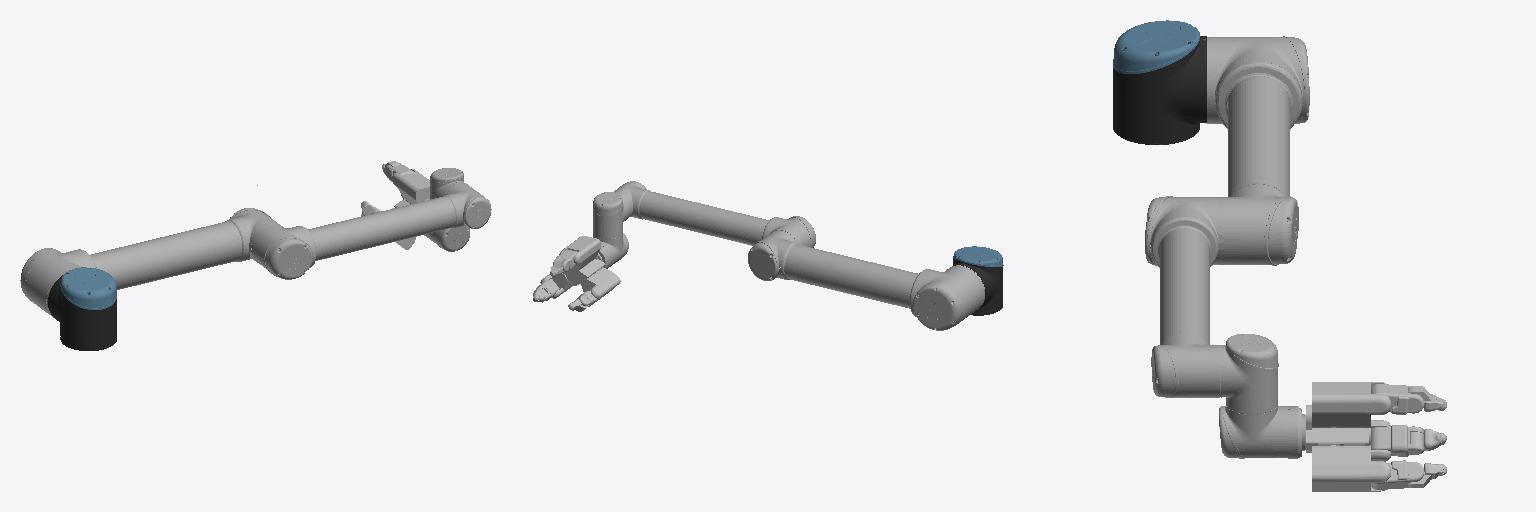
--- What the picture shows (computed from the rendered views, not written in the file) ---
Views: 3 orthographic renders of the robot side by side, from view 1: azimuth 30°, elevation 25°; view 2: azimuth 150°, elevation 25°; view 3: azimuth 270°, elevation 25°.
Model smart_grasping_sandbox with 35 links and 34 joints (15 revolute, 19 fixed), rooted at world, posed every joint at zero.
Links seen in each view (by area): view 1: upper_arm_link, forearm_link, shoulder_link, H1_F2_base_link, wrist_2_link, wrist_1_link; view 2: upper_arm_link, forearm_link, shoulder_link, wrist_1_link, H1_F2_base_link, H1_F3_base_link; view 3: upper_arm_link, forearm_link, shoulder_link, wrist_1_link, wrist_2_link, H1_F2_base_link, H1_F1_base_link, H1_F3_link_1, H1_base_link, H1_F2_link_1, H1_F1_link_1, wrist_3_link.
Link boxes in pixels (box(x1,y1,x2,y2)): upper_arm_link: box(20, 185, 279, 317); forearm_link: box(249, 182, 491, 279); shoulder_link: box(48, 267, 116, 350); H1_F2_base_link: box(392, 169, 429, 203); wrist_2_link: box(425, 226, 469, 251); wrist_1_link: box(430, 168, 463, 199); upper_arm_link: box(748, 231, 984, 330); forearm_link: box(614, 181, 815, 247); shoulder_link: box(953, 246, 1003, 315); wrist_1_link: box(593, 192, 629, 239); H1_F2_base_link: box(559, 236, 600, 271); H1_F3_base_link: box(581, 267, 620, 306); upper_arm_link: box(1207, 36, 1309, 265); forearm_link: box(1145, 196, 1223, 397); shoulder_link: box(1113, 20, 1206, 144); wrist_1_link: box(1221, 334, 1278, 414); wrist_2_link: box(1219, 406, 1287, 458); H1_F2_base_link: box(1312, 382, 1390, 427); H1_F1_base_link: box(1312, 445, 1390, 491); H1_F3_link_1: box(1371, 425, 1423, 456); H1_base_link: box(1306, 405, 1368, 452); H1_F2_link_1: box(1371, 384, 1423, 414); H1_F1_link_1: box(1371, 460, 1423, 489); wrist_3_link: box(1288, 406, 1305, 458).
Size in the robot's own frame: 1.36 by 0.5747 by 0.3017 metres.
22 mesh visuals loaded from 13 distinct referenced files (6 binary STL, 6 Collada DAE); not drawn: 1 (reference not matched to a file when rendering).

URDF robot description (smart_grasping_sandbox):
<?xml version="1.0" ?>
<!-- =================================================================================== -->
<!-- |    This document was autogenerated by xacro from /smart_grasping_sandbox/src/smart_grasping_sandbox/fh_desc/robots/right_H1_ur5.urdf | -->
<!-- |    EDITING THIS FILE BY HAND IS NOT RECOMMENDED                                 | -->
<!-- =================================================================================== -->
<robot name="smart_grasping_sandbox" xmlns:xacro="http://ros.org/wiki/xacro">
  <!--
  Author: Kelsey Hawkins
  Contributers: Jimmy Da Silva, Ajit Krisshna N L, Muhammad Asif Rana
-->
  <!-- Inertia parameters -->
  <!-- This mass might be incorrect -->
  <!-- These parameters are borrowed from the urcontrol.conf file
       but are not verified for the correct permutation.
       The permutation was guessed by looking at the UR5 parameters.
       Serious use of these parameters needs further inspection. -->
  <!-- Kinematic model -->
  <!-- Properties from urcontrol.conf -->
  <!-- Arbitrary offsets for shoulder/elbow joints -->
  <!-- measured from model -->
  <!-- measured from model -->
  <!-- link lengths used in model -->
  <link name="world"/>
  <joint name="world_joint" type="fixed">
    <parent link="world"/>
    <child link="base_link"/>
    <origin rpy="0.0 0.0 0.0" xyz="0.0 -1.0 1.0"/>
  </joint>
  <link name="base_link">
    <visual>
      <geometry>
        <mesh filename="package://ur_description/meshes/ur10/visual/base.dae"/>
      </geometry>
    </visual>
    <collision>
      <geometry>
        <mesh filename="package://ur_description/meshes/ur10/collision/base.stl"/>
      </geometry>
    </collision>
    <inertial>
      <mass value="4.0"/>
      <origin rpy="0 0 0" xyz="0.0 0.0 0.0"/>
      <inertia ixx="0.0061063308908" ixy="0.0" ixz="0.0" iyy="0.0061063308908" iyz="0.0" izz="0.01125"/>
    </inertial>
  </link>
  <joint name="shoulder_pan_joint" type="revolute">
    <parent link="base_link"/>
    <child link="shoulder_link"/>
    <origin rpy="0.0 0.0 0.0" xyz="0.0 0.0 0.1273"/>
    <axis xyz="0 0 1"/>
    <limit effort="330.0" lower="-3.14159265359" upper="3.14159265359" velocity="2.16"/>
    <dynamics damping="0.0" friction="0.0"/>
  </joint>
  <link name="shoulder_link">
    <visual>
      <geometry>
        <mesh filename="package://ur_description/meshes/ur10/visual/shoulder.dae"/>
      </geometry>
    </visual>
    <collision>
      <geometry>
        <mesh filename="package://ur_description/meshes/ur10/collision/shoulder.stl"/>
      </geometry>
    </collision>
    <inertial>
      <mass value="7.778"/>
      <origin rpy="0 0 0" xyz="0.0 0.0 0.0"/>
      <inertia ixx="0.0314743125769" ixy="0.0" ixz="0.0" iyy="0.0314743125769" iyz="0.0" izz="0.021875625"/>
    </inertial>
  </link>
  <joint name="shoulder_lift_joint" type="revolute">
    <parent link="shoulder_link"/>
    <child link="upper_arm_link"/>
    <origin rpy="0.0 1.57079632679 0.0" xyz="0.0 0.220941 0.0"/>
    <axis xyz="0 1 0"/>
    <limit effort="330.0" lower="-3.14159265359" upper="3.14159265359" velocity="2.16"/>
    <dynamics damping="0.0" friction="0.0"/>
  </joint>
  <link name="upper_arm_link">
    <visual>
      <geometry>
        <mesh filename="package://ur_description/meshes/ur10/visual/upperarm.dae"/>
      </geometry>
      <material name="LightGrey">
        <color rgba="0.7 0.7 0.7 1.0"/>
      </material>
    </visual>
    <collision>
      <geometry>
        <mesh filename="package://ur_description/meshes/ur10/collision/upperarm.stl"/>
      </geometry>
    </collision>
    <inertial>
      <mass value="12.93"/>
      <origin rpy="0 0 0" xyz="0.0 0.0 0.306"/>
      <inertia ixx="0.421753803798" ixy="0.0" ixz="0.0" iyy="0.421753803798" iyz="0.0" izz="0.036365625"/>
    </inertial>
  </link>
  <joint name="elbow_joint" type="revolute">
    <parent link="upper_arm_link"/>
    <child link="forearm_link"/>
    <origin rpy="0.0 0.0 0.0" xyz="0.0 -0.1719 0.612"/>
    <axis xyz="0 1 0"/>
    <limit effort="150.0" lower="-3.14159265359" upper="3.14159265359" velocity="3.15"/>
    <dynamics damping="0.0" friction="0.0"/>
  </joint>
  <link name="forearm_link">
    <visual>
      <geometry>
        <mesh filename="package://ur_description/meshes/ur10/visual/forearm.dae"/>
      </geometry>
      <material name="LightGrey">
        <color rgba="0.7 0.7 0.7 1.0"/>
      </material>
    </visual>
    <collision>
      <geometry>
        <mesh filename="package://ur_description/meshes/ur10/collision/forearm.stl"/>
      </geometry>
    </collision>
    <inertial>
      <mass value="3.87"/>
      <origin rpy="0 0 0" xyz="0.0 0.0 0.28615"/>
      <inertia ixx="0.111069694097" ixy="0.0" ixz="0.0" iyy="0.111069694097" iyz="0.0" izz="0.010884375"/>
    </inertial>
  </link>
  <joint name="wrist_1_joint" type="revolute">
    <parent link="forearm_link"/>
    <child link="wrist_1_link"/>
    <origin rpy="0.0 1.57079632679 0.0" xyz="0.0 0.0 0.5723"/>
    <axis xyz="0 1 0"/>
    <limit effort="54.0" lower="-3.14159265359" upper="3.14159265359" velocity="3.2"/>
    <dynamics damping="0.0" friction="0.0"/>
  </joint>
  <link name="wrist_1_link">
    <visual>
      <geometry>
        <mesh filename="package://ur_description/meshes/ur10/visual/wrist1.dae"/>
      </geometry>
      <material name="LightGrey">
        <color rgba="0.7 0.7 0.7 1.0"/>
      </material>
    </visual>
    <collision>
      <geometry>
        <mesh filename="package://ur_description/meshes/ur10/collision/wrist1.stl"/>
      </geometry>
    </collision>
    <inertial>
      <mass value="1.96"/>
      <origin rpy="0 0 0" xyz="0.0 0.0 0.0"/>
      <inertia ixx="0.0051082479567" ixy="0.0" ixz="0.0" iyy="0.0051082479567" iyz="0.0" izz="0.0055125"/>
    </inertial>
  </link>
  <joint name="wrist_2_joint" type="revolute">
    <parent link="wrist_1_link"/>
    <child link="wrist_2_link"/>
    <origin rpy="0.0 0.0 0.0" xyz="0.0 0.1149 0.0"/>
    <axis xyz="0 0 1"/>
    <limit effort="54.0" lower="-3.14159265359" upper="3.14159265359" velocity="3.2"/>
    <dynamics damping="0.0" friction="0.0"/>
  </joint>
  <link name="wrist_2_link">
    <visual>
      <geometry>
        <mesh filename="package://ur_description/meshes/ur10/visual/wrist2.dae"/>
      </geometry>
      <material name="LightGrey">
        <color rgba="0.7 0.7 0.7 1.0"/>
      </material>
    </visual>
    <collision>
      <geometry>
        <mesh filename="package://ur_description/meshes/ur10/collision/wrist2.stl"/>
      </geometry>
    </collision>
    <inertial>
      <mass value="1.96"/>
      <origin rpy="0 0 0" xyz="0.0 0.0 0.0"/>
      <inertia ixx="0.0051082479567" ixy="0.0" ixz="0.0" iyy="0.0051082479567" iyz="0.0" izz="0.0055125"/>
    </inertial>
  </link>
  <joint name="wrist_3_joint" type="revolute">
    <parent link="wrist_2_link"/>
    <child link="wrist_3_link"/>
    <origin rpy="0.0 0.0 0.0" xyz="0.0 0.0 0.1157"/>
    <axis xyz="0 1 0"/>
    <limit effort="54.0" lower="-3.14159265359" upper="3.14159265359" velocity="3.2"/>
    <dynamics damping="0.0" friction="0.0"/>
  </joint>
  <link name="wrist_3_link">
    <visual>
      <geometry>
        <mesh filename="package://ur_description/meshes/ur10/visual/wrist3.dae"/>
      </geometry>
      <material name="LightGrey">
        <color rgba="0.7 0.7 0.7 1.0"/>
      </material>
    </visual>
    <collision>
      <geometry>
        <mesh filename="package://ur_description/meshes/ur10/collision/wrist3.stl"/>
      </geometry>
    </collision>
    <inertial>
      <mass value="0.202"/>
      <origin rpy="0 0 0" xyz="0.0 0.0 0.0"/>
      <inertia ixx="0.000526462289415" ixy="0.0" ixz="0.0" iyy="0.000526462289415" iyz="0.0" izz="0.000568125"/>
    </inertial>
  </link>
  <joint name="ee_fixed_joint" type="fixed">
    <parent link="wrist_3_link"/>
    <child link="ee_link"/>
    <origin rpy="0.0 0.0 1.57079632679" xyz="0.0 0.0922 0.0"/>
  </joint>
  <link name="ee_link">
    <collision>
      <geometry>
        <box size="0.01 0.01 0.01"/>
      </geometry>
      <origin rpy="0 0 0" xyz="-0.01 0 0"/>
    </collision>
  </link>
  <transmission name="shoulder_pan_trans">
    <type>transmission_interface/SimpleTransmission</type>
    <joint name="shoulder_pan_joint">
      <hardwareInterface>PositionJointInterface</hardwareInterface>
    </joint>
    <actuator name="shoulder_pan_motor">
      <mechanicalReduction>1</mechanicalReduction>
    </actuator>
  </transmission>
  <transmission name="shoulder_lift_trans">
    <type>transmission_interface/SimpleTransmission</type>
    <joint name="shoulder_lift_joint">
      <hardwareInterface>PositionJointInterface</hardwareInterface>
    </joint>
    <actuator name="shoulder_lift_motor">
      <mechanicalReduction>1</mechanicalReduction>
    </actuator>
  </transmission>
  <transmission name="elbow_trans">
    <type>transmission_interface/SimpleTransmission</type>
    <joint name="elbow_joint">
      <hardwareInterface>PositionJointInterface</hardwareInterface>
    </joint>
    <actuator name="elbow_motor">
      <mechanicalReduction>1</mechanicalReduction>
    </actuator>
  </transmission>
  <transmission name="wrist_1_trans">
    <type>transmission_interface/SimpleTransmission</type>
    <joint name="wrist_1_joint">
      <hardwareInterface>PositionJointInterface</hardwareInterface>
    </joint>
    <actuator name="wrist_1_motor">
      <mechanicalReduction>1</mechanicalReduction>
    </actuator>
  </transmission>
  <transmission name="wrist_2_trans">
    <type>transmission_interface/SimpleTransmission</type>
    <joint name="wrist_2_joint">
      <hardwareInterface>PositionJointInterface</hardwareInterface>
    </joint>
    <actuator name="wrist_2_motor">
      <mechanicalReduction>1</mechanicalReduction>
    </actuator>
  </transmission>
  <transmission name="wrist_3_trans">
    <type>transmission_interface/SimpleTransmission</type>
    <joint name="wrist_3_joint">
      <hardwareInterface>PositionJointInterface</hardwareInterface>
    </joint>
    <actuator name="wrist_3_motor">
      <mechanicalReduction>1</mechanicalReduction>
    </actuator>
  </transmission>
  <!-- nothing to do here at the moment -->
  <!-- ROS base_link to UR 'Base' Coordinates transform -->
  <link name="base"/>
  <joint name="base_link-base_fixed_joint" type="fixed">
    <!-- NOTE: this rotation is only needed as long as base_link itself is
                 not corrected wrt the real robot (ie: rotated over 180
                 degrees)
      -->
    <origin rpy="0 0 -3.14159265359" xyz="0 0 0"/>
    <parent link="base_link"/>
    <child link="base"/>
  </joint>
  <!-- Frame coincident with all-zeros TCP on UR controller -->
  <link name="tool0"/>
  <joint name="wrist_3_link-tool0_fixed_joint" type="fixed">
    <origin rpy="-1.57079632679 0 0" xyz="0 0.0922 0"/>
    <parent link="wrist_3_link"/>
    <child link="tool0"/>
  </joint>
  
  
  
  
  <link name="H1_base_attach"/>
  <material name="Blue">
    <color rgba="0.0 0.0 0.8 1.0"/>
  </material>
  <material name="Green">
    <color rgba="0.0 0.8 0.0 1.0"/>
  </material>
  <material name="BiotacGreen">
    <color rgba="0.31 0.85 0.42 1.0"/>
  </material>
  <material name="Grey">
    <color rgba="0.2 0.2 0.2 1.0"/>
  </material>
  <material name="LightGrey">
    <color rgba="0.6 0.6 0.6 1.0"/>
  </material>
  <material name="Red">
    <color rgba="0.8 0.0 0.0 1.0"/>
  </material>
  <material name="White">
    <color rgba="1.0 1.0 1.0 1.0"/>
  </material>
  <gazebo>
    <plugin filename="libgazebo_ros_control.so" name="ros_control">
      <robotSimType>gazebo_ros_control/DefaultRobotHWSim</robotSimType>
    </plugin>
  </gazebo>
  <link name="H1_base_link">
    <inertial>
      <origin rpy="0 0 0" xyz="-8.6116E-06 -0.0058125 0.028294"/>
      <mass value="0.07527"/>
      <inertia ixx="0.00014442" ixy="1.2033E-08" ixz="-5.9646E-10" iyy="0.00014979" iyz="-1.0288E-05" izz="5.2943E-05"/>
    </inertial>
    <visual>
      <origin rpy="0 0 0" xyz="0 0 0"/>
      <geometry>
        <mesh filename="package://fh_desc/meshes/v2/palm_link_simple.stl"/>
      </geometry>
      <material name="light_grey">
        <color rgba="0.75 0.75 0.75 1.0"/>
      </material>
    </visual>
    <collision>
      <origin rpy="0 0 0" xyz="0 0 0"/>
      <geometry>
        <mesh filename="package://fh_desc/meshes/v2/palm_link_simple.stl"/>
      </geometry>
      <material name="light_grey">
        <color rgba="0.75 0.75 0.75 1.0"/>
      </material>
    </collision>
  </link>
  <joint name="H1Base" type="fixed">
    <origin rpy="0 0 0" xyz="0 0 0"/>
    <parent link="H1_base_attach"/>
    <child link="H1_wrist_attach"/>
  </joint>
  
  <gazebo>
    <plugin name="imu_controller" filename="libgazebo_ros_imu.so">
      <alwaysOn>true</alwaysOn>
      <updateRate>50</updateRate>
      <bodyName>H1_base_link</bodyName>
      <!--imu_link -->
      <topicName>imu/data</topicName>
      <serviceName>imu/is_calibrated</serviceName>
      <gaussianNoise>2.89e-08</gaussianNoise>
      <xyzOffsets>0 0 0</xyzOffsets>
      <rpyOffsets>0 0 0</rpyOffsets>
    </plugin>
  </gazebo>
  
  <link name="H1_insert_F1"/>
  <joint name="H1_dummy_joint_1" type="fixed">
    <origin rpy="0 0 2.3562" xyz="-0.045 -0.025981 0"/>
    <axis xyz="0 -1 0"/>
    <parent link="H1_base_link"/>
    <child link="H1_insert_F1"/>
  </joint>
  <link name="H1_insert_F2"/>
  <joint name="H1_dummy_joint_2" type="fixed">
    <origin rpy="0 0 0" xyz="0 0.029019 0"/>
    <axis xyz="0 -1 0"/>
    <parent link="H1_base_link"/>
    <child link="H1_insert_F2"/>
  </joint>
  <link name="H1_insert_F3"/>
  <joint name="H1_dummy_joint_3" type="fixed">
    <origin rpy="0 0 -2.3562" xyz="0.045 -0.025981 0"/>
    <axis xyz="0 -1 0"/>
    <parent link="H1_base_link"/>
    <child link="H1_insert_F3"/>
  </joint>
  <link name="H1_wrist_attach"/>
  <joint name="H1_base_link_wrist_attach" type="fixed">
    <origin rpy="0 0 0" xyz="0 0 -0.0005"/>
    <child link="H1_base_link"/>
    <parent link="H1_wrist_attach"/>
  </joint>
  <link name="H1_F1_palm_link">
    <inertial>
      <origin rpy="0 0 0" xyz="-0.00681802120880393 -0.00947020456878004 0.067587996682422"/>
      <mass value="0.0341482312344481"/>
      <inertia ixx="2.79747833772125E-05" ixy="-5.50900644725373E-08" ixz="-2.82072424927723E-07" iyy="2.67800858812928E-05" iyz="3.1953125069394E-06" izz="9.86122271726361E-06"/>
    </inertial>
    <visual>
      <origin rpy="0 0 0" xyz="0 0 0"/>
      <geometry>
        <mesh filename="package://fh_desc/meshes/v2/finger_palm_link.stl"/>
      </geometry>
      <material name="light_grey">
        <color rgba="0.75 0.75 0.75 1.0"/>
      </material>
    </visual>
  </link>
  <link name="H1_F1_base_link">
    <inertial>
      <origin rpy="0 0 0" xyz="-0.000142856770000038 0.0265691681336443 0.0538751581621436"/>
      <mass value="0.174652229503358"/>
      <inertia ixx="0.000298372741514267" ixy="-5.05751882577435E-07" ixz="1.94982779411417E-07" iyy="0.000299629589232877" iyz="2.79565205733806E-05" izz="0.000134889645145365"/>
    </inertial>
    <visual>
      <origin rpy="0 0 0" xyz="0 0 0"/>
      <geometry>
        <mesh filename="package://fh_desc/meshes/v2/finger_base_link_simple.stl"/>
      </geometry>
      <material name="light_grey">
        <color rgba="0.75 0.75 0.75 1.0"/>
      </material>
    </visual>
    <collision>
      <origin rpy="0 0 0" xyz="0 0 0"/>
      <geometry>
        <mesh filename="package://fh_desc/meshes/v2/finger_base_link_simple.stl"/>
      </geometry>
      <material name="light_grey">
        <color rgba="0.75 0.75 0.75 1.0"/>
      </material>
    </collision>
  </link>
  <link name="H1_F1_link_1">
    <inertial>
      <origin rpy="0 0 0" xyz="-0.000141876508729455 -0.00135409566494088 0.0277606215980989"/>
      <mass value="0.0827759744227546"/>
      <inertia ixx="4.61070151157777E-05" ixy="7.47741111557837E-08" ixz="-2.25165057702697E-07" iyy="5.27678327317508E-05" iyz="-3.64603343546298E-07" izz="2.89599551320955E-05"/>
    </inertial>
    <visual>
      <origin rpy="0 0 0" xyz="0 0 0"/>
      <geometry>
        <mesh filename="package://fh_desc/meshes/v2/finger_prox_link_simple.stl"/>
      </geometry>
      <material name="light_grey">
        <color rgba="0.75 0.75 0.75 1.0"/>
      </material>
    </visual>
    <collision>
      <origin rpy="0 0 0" xyz="0 0 0"/>
      <geometry>
        <mesh filename="package://fh_desc/meshes/v2/finger_prox_link_simple.stl"/>
      </geometry>
      <material name="light_grey">
        <color rgba="0.75 0.75 0.75 1.0"/>
      </material>
    </collision>
  </link>
  <link name="H1_F1_link_2">
    <inertial>
      <origin rpy="0 0 0" xyz="0.000506812071918918 -0.00091292934992606 0.0156620851768385"/>
      <mass value="0.0270049614151599"/>
      <inertia ixx="1.06942730265546E-05" ixy="-7.1810089794211E-09" ixz="-3.49957211410822E-07" iyy="1.05772889540593E-05" iyz="-8.38595987731518E-07" izz="3.27173446995846E-06"/>
    </inertial>
    <visual>
      <origin rpy="0 0 0" xyz="0 0 0"/>
      <geometry>
        <mesh filename="package://fh_desc/meshes/v2/finger_dist_link_simple.stl"/>
      </geometry>
      <material name="light_grey">
        <color rgba="0.75 0.75 0.75 1.0"/>
      </material>
    </visual>
    <collision>
      <origin rpy="0 0 0" xyz="0 0 0"/>
      <geometry>
        <mesh filename="package://fh_desc/meshes/v2/finger_dist_link_simple.stl"/>
      </geometry>
      <material name="light_grey">
        <color rgba="0.75 0.75 0.75 1.0"/>
      </material>
    </collision>
  </link>
  <joint name="H1_F1Palm" type="fixed">
    <origin rpy="0 0 0" xyz="0 0 0"/>
    <parent link="H1_insert_F1"/>
    <child link="H1_F1_palm_link"/>
  </joint>
  <joint name="H1_F1J1" type="revolute">
    <origin rpy="-8.8818E-16 -1.0061E-16 0.022402" xyz="0 0 0.00016528"/>
    <axis xyz="0 0 1"/>
    <parent link="H1_F1_palm_link"/>
    <child link="H1_F1_base_link"/>
    <limit effort="50" lower="-0.785398163397" upper="0.785398163397" velocity="1.0"/>
    <dynamics damping="0.0" friction="0.0"/>
  </joint>
  <joint name="H1_F1J2" type="revolute">
    <origin rpy="0.070695 6.9389E-16 2.0947E-16" xyz="0 0.035 0.11683"/>
    <axis xyz="1 0 0"/>
    <parent link="H1_F1_base_link"/>
    <child link="H1_F1_link_1"/>
    <limit effort="50" lower="-1.3962634016" upper="1.0471975512" velocity="1.0"/>
    <dynamics damping="0.0" friction="0.0"/>
  </joint>
  <joint name="H1_F1J3" type="revolute">
    <origin rpy="-0.0068649 1.7347E-18 1.6176E-16" xyz="0 0 0.06"/>
    <axis xyz="1 0 0"/>
    <parent link="H1_F1_link_1"/>
    <child link="H1_F1_link_2"/>
    <limit effort="50" lower="-1.0471975512" upper="1.57079632679" velocity="1.0"/>
    <dynamics damping="0.0" friction="0.0"/>
  </joint>
  <transmission name="H1_F1J1_transmission">
    <type>transmission_interface/SimpleTransmission</type>
    <actuator name="H1_F1J1">
      <mechanicalReduction>1</mechanicalReduction>
    </actuator>
    <joint name="H1_F1J1">
      <hardwareInterface>EffortJointInterface</hardwareInterface>
    </joint>
  </transmission>
  <transmission name="H1_F1J2_transmission">
    <type>transmission_interface/SimpleTransmission</type>
    <actuator name="H1_F1J2">
      <mechanicalReduction>1</mechanicalReduction>
    </actuator>
    <joint name="H1_F1J2">
      <hardwareInterface>EffortJointInterface</hardwareInterface>
    </joint>
  </transmission>
  <transmission name="H1_F1J3_transmission">
    <type>transmission_interface/SimpleTransmission</type>
    <actuator name="H1_F1J3">
      <mechanicalReduction>1</mechanicalReduction>
    </actuator>
    <joint name="H1_F1J3">
      <hardwareInterface>EffortJointInterface</hardwareInterface>
    </joint>
  </transmission>
  <!-- finger tip -->
  <link name="H1_F1_tip">
    <inertial>
      <origin rpy="0 0 0" xyz="-0.000925580990320645 -0.00495543398528436 0.0355865585792753"/>
      <mass value="0.00906322686585137"/>
      <inertia ixx="1.10049088227995E-06" ixy="-3.7290982171096E-09" ixz="-9.54389365908683E-09" iyy="1.36130530510584E-06" iyz="6.66133713720777E-08" izz="6.42259773618367E-07"/>
    </inertial>
    <visual>
      <origin rpy="0 0 0" xyz="0 0 0"/>
      <geometry>
        <mesh filename="package://fh_desc/meshes/omd-d18-tip.stl"/>
      </geometry>
      <material name="light_grey">
        <color rgba="0.75 0.75 0.75 1.0"/>
      </material>
    </visual>
    <collision>
      <origin rpy="0 0 0" xyz="0 0 0"/>
      <geometry>
        <mesh filename="package://fh_desc/meshes/omd-d18-tip.stl"/>
      </geometry>
      <material name="light_grey">
        <color rgba="0.75 0.75 0.75 1.0"/>
      </material>
    </collision>
  </link>
  <link name="H1_F1_optoforce"/>
  <joint name="H1_F1_tip_to_optoforce" type="fixed">
    <parent link="H1_F1_tip"/>
    <child link="H1_F1_optoforce"/>
    <origin rpy="-0.35 0 0" xyz="0 -0.006 0.046"/>
  </joint>
  <joint name="H1_F1_tip" type="fixed">
    <parent link="H1_F1_link_2"/>
    <child link="H1_F1_tip"/>
  </joint>
  <link name="H1_F2_palm_link">
    <inertial>
      <origin rpy="0 0 0" xyz="-0.00681802120880393 -0.00947020456878004 0.067587996682422"/>
      <mass value="0.0341482312344481"/>
      <inertia ixx="2.79747833772125E-05" ixy="-5.50900644725373E-08" ixz="-2.82072424927723E-07" iyy="2.67800858812928E-05" iyz="3.1953125069394E-06" izz="9.86122271726361E-06"/>
    </inertial>
    <visual>
      <origin rpy="0 0 0" xyz="0 0 0"/>
      <geometry>
        <mesh filename="package://fh_desc/meshes/v2/finger_palm_link.stl"/>
      </geometry>
      <material name="light_grey">
        <color rgba="0.75 0.75 0.75 1.0"/>
      </material>
    </visual>
  </link>
  <link name="H1_F2_base_link">
    <inertial>
      <origin rpy="0 0 0" xyz="-0.000142856770000038 0.0265691681336443 0.0538751581621436"/>
      <mass value="0.174652229503358"/>
      <inertia ixx="0.000298372741514267" ixy="-5.05751882577435E-07" ixz="1.94982779411417E-07" iyy="0.000299629589232877" iyz="2.79565205733806E-05" izz="0.000134889645145365"/>
    </inertial>
    <visual>
      <origin rpy="0 0 0" xyz="0 0 0"/>
      <geometry>
        <mesh filename="package://fh_desc/meshes/v2/finger_base_link_simple.stl"/>
      </geometry>
      <material name="light_grey">
        <color rgba="0.75 0.75 0.75 1.0"/>
      </material>
    </visual>
    <collision>
      <origin rpy="0 0 0" xyz="0 0 0"/>
      <geometry>
        <mesh filename="package://fh_desc/meshes/v2/finger_base_link_simple.stl"/>
      </geometry>
      <material name="light_grey">
        <color rgba="0.75 0.75 0.75 1.0"/>
      </material>
    </collision>
  </link>
  <link name="H1_F2_link_1">
    <inertial>
      <origin rpy="0 0 0" xyz="-0.000141876508729455 -0.00135409566494088 0.0277606215980989"/>
      <mass value="0.0827759744227546"/>
      <inertia ixx="4.61070151157777E-05" ixy="7.47741111557837E-08" ixz="-2.25165057702697E-07" iyy="5.27678327317508E-05" iyz="-3.64603343546298E-07" izz="2.89599551320955E-05"/>
    </inertial>
    <visual>
      <origin rpy="0 0 0" xyz="0 0 0"/>
      <geometry>
        <mesh filename="package://fh_desc/meshes/v2/finger_prox_link_simple.stl"/>
      </geometry>
      <material name="light_grey">
        <color rgba="0.75 0.75 0.75 1.0"/>
      </material>
    </visual>
    <collision>
      <origin rpy="0 0 0" xyz="0 0 0"/>
      <geometry>
        <mesh filename="package://fh_desc/meshes/v2/finger_prox_link_simple.stl"/>
      </geometry>
      <material name="light_grey">
        <color rgba="0.75 0.75 0.75 1.0"/>
      </material>
    </collision>
  </link>
  <link name="H1_F2_link_2">
    <inertial>
      <origin rpy="0 0 0" xyz="0.000506812071918918 -0.00091292934992606 0.0156620851768385"/>
      <mass value="0.0270049614151599"/>
      <inertia ixx="1.06942730265546E-05" ixy="-7.1810089794211E-09" ixz="-3.49957211410822E-07" iyy="1.05772889540593E-05" iyz="-8.38595987731518E-07" izz="3.27173446995846E-06"/>
    </inertial>
    <visual>
      <origin rpy="0 0 0" xyz="0 0 0"/>
      <geometry>
        <mesh filename="package://fh_desc/meshes/v2/finger_dist_link_simple.stl"/>
      </geometry>
      <material name="light_grey">
        <color rgba="0.75 0.75 0.75 1.0"/>
      </material>
    </visual>
    <collision>
      <origin rpy="0 0 0" xyz="0 0 0"/>
      <geometry>
        <mesh filename="package://fh_desc/meshes/v2/finger_dist_link_simple.stl"/>
      </geometry>
      <material name="light_grey">
        <color rgba="0.75 0.75 0.75 1.0"/>
      </material>
    </collision>
  </link>
  <joint name="H1_F2Palm" type="fixed">
    <origin rpy="0 0 0" xyz="0 0 0"/>
    <parent link="H1_insert_F2"/>
    <child link="H1_F2_palm_link"/>
  </joint>
  <joint name="H1_F2J1" type="revolute">
    <origin rpy="-8.8818E-16 -1.0061E-16 0.022402" xyz="0 0 0.00016528"/>
    <axis xyz="0 0 1"/>
    <parent link="H1_F2_palm_link"/>
    <child link="H1_F2_base_link"/>
    <limit effort="30" lower="-0.785398163397" upper="0.785398163397" velocity="1.0"/>
    <dynamics damping="0.0" friction="0.0"/>
  </joint>
  <joint name="H1_F2J2" type="revolute">
    <origin rpy="0.070695 6.9389E-16 2.0947E-16" xyz="0 0.035 0.11683"/>
    <axis xyz="1 0 0"/>
    <parent link="H1_F2_base_link"/>
    <child link="H1_F2_link_1"/>
    <limit effort="30" lower="-1.3962634016" upper="1.0471975512" velocity="1.0"/>
    <dynamics damping="0.0" friction="0.0"/>
  </joint>
  <joint name="H1_F2J3" type="revolute">
    <origin rpy="-0.0068649 1.7347E-18 1.6176E-16" xyz="0 0 0.06"/>
    <axis xyz="1 0 0"/>
    <parent link="H1_F2_link_1"/>
    <child link="H1_F2_link_2"/>
    <limit effort="30" lower="-1.0471975512" upper="1.57079632679" velocity="1.0"/>
    <dynamics damping="0.0" friction="0.0"/>
  </joint>
  <transmission name="H1_F2J1_transmission">
    <type>transmission_interface/SimpleTransmission</type>
    <actuator name="H1_F2J1">
      <mechanicalReduction>1</mechanicalReduction>
    </actuator>
    <joint name="H1_F2J1">
      <hardwareInterface>EffortJointInterface</hardwareInterface>
    </joint>
  </transmission>
  <transmission name="H1_F2J2_transmission">
    <type>transmission_interface/SimpleTransmission</type>
    <actuator name="H1_F2J2">
      <mechanicalReduction>1</mechanicalReduction>
    </actuator>
    <joint name="H1_F2J2">
      <hardwareInterface>EffortJointInterface</hardwareInterface>
    </joint>
  </transmission>
  <transmission name="H1_F2J3_transmission">
    <type>transmission_interface/SimpleTransmission</type>
    <actuator name="H1_F2J3">
      <mechanicalReduction>1</mechanicalReduction>
    </actuator>
    <joint name="H1_F2J3">
      <hardwareInterface>EffortJointInterface</hardwareInterface>
    </joint>
  </transmission>
  <!-- finger tip -->
  <link name="H1_F2_tip">
    <inertial>
      <origin rpy="0 0 0" xyz="-0.000925580990320645 -0.00495543398528436 0.0355865585792753"/>
      <mass value="0.00906322686585137"/>
      <inertia ixx="1.10049088227995E-06" ixy="-3.7290982171096E-09" ixz="-9.54389365908683E-09" iyy="1.36130530510584E-06" iyz="6.66133713720777E-08" izz="6.42259773618367E-07"/>
    </inertial>
    <visual>
      <origin rpy="0 0 0" xyz="0 0 0"/>
      <geometry>
        <mesh filename="package://fh_desc/meshes/omd-d18-tip.stl"/>
      </geometry>
      <material name="light_grey">
        <color rgba="0.75 0.75 0.75 1.0"/>
      </material>
    </visual>
    <collision>
      <origin rpy="0 0 0" xyz="0 0 0"/>
      <geometry>
        <mesh filename="package://fh_desc/meshes/omd-d18-tip.stl"/>
      </geometry>
      <material name="light_grey">
        <color rgba="0.75 0.75 0.75 1.0"/>
      </material>
    </collision>
  </link>
  <link name="H1_F2_optoforce"/>
  <joint name="H1_F2_tip_to_optoforce" type="fixed">
    <parent link="H1_F2_tip"/>
    <child link="H1_F2_optoforce"/>
    <origin rpy="-0.35 0 0" xyz="0 -0.006 0.046"/>
  </joint>
  <joint name="H1_F2_tip" type="fixed">
    <parent link="H1_F2_link_2"/>
    <child link="H1_F2_tip"/>
  </joint>
  <link name="H1_F3_palm_link">
    <inertial>
      <origin rpy="0 0 0" xyz="-0.00681802120880393 -0.00947020456878004 0.067587996682422"/>
      <mass value="0.0341482312344481"/>
      <inertia ixx="2.79747833772125E-05" ixy="-5.50900644725373E-08" ixz="-2.82072424927723E-07" iyy="2.67800858812928E-05" iyz="3.1953125069394E-06" izz="9.86122271726361E-06"/>
    </inertial>
    <visual>
      <origin rpy="0 0 0" xyz="0 0 0"/>
      <geometry>
        <mesh filename="package://fh_desc/meshes/v2/finger_palm_link.stl"/>
      </geometry>
      <material name="light_grey">
        <color rgba="0.75 0.75 0.75 1.0"/>
      </material>
    </visual>
  </link>
  <link name="H1_F3_base_link">
    <inertial>
      <origin rpy="0 0 0" xyz="-0.000142856770000038 0.0265691681336443 0.0538751581621436"/>
      <mass value="0.174652229503358"/>
      <inertia ixx="0.000298372741514267" ixy="-5.05751882577435E-07" ixz="1.94982779411417E-07" iyy="0.000299629589232877" iyz="2.79565205733806E-05" izz="0.000134889645145365"/>
    </inertial>
    <visual>
      <origin rpy="0 0 0" xyz="0 0 0"/>
      <geometry>
        <mesh filename="package://fh_desc/meshes/v2/finger_base_link_simple.stl"/>
      </geometry>
      <material name="light_grey">
        <color rgba="0.75 0.75 0.75 1.0"/>
      </material>
    </visual>
    <collision>
      <origin rpy="0 0 0" xyz="0 0 0"/>
      <geometry>
        <mesh filename="package://fh_desc/meshes/v2/finger_base_link_simple.stl"/>
      </geometry>
      <material name="light_grey">
        <color rgba="0.75 0.75 0.75 1.0"/>
      </material>
    </collision>
  </link>
  <link name="H1_F3_link_1">
    <inertial>
      <origin rpy="0 0 0" xyz="-0.000141876508729455 -0.00135409566494088 0.0277606215980989"/>
      <mass value="0.0827759744227546"/>
      <inertia ixx="4.61070151157777E-05" ixy="7.47741111557837E-08" ixz="-2.25165057702697E-07" iyy="5.27678327317508E-05" iyz="-3.64603343546298E-07" izz="2.89599551320955E-05"/>
    </inertial>
    <visual>
      <origin rpy="0 0 0" xyz="0 0 0"/>
      <geometry>
        <mesh filename="package://fh_desc/meshes/v2/finger_prox_link_simple.stl"/>
      </geometry>
      <material name="light_grey">
        <color rgba="0.75 0.75 0.75 1.0"/>
      </material>
    </visual>
    <collision>
      <origin rpy="0 0 0" xyz="0 0 0"/>
      <geometry>
        <mesh filename="package://fh_desc/meshes/v2/finger_prox_link_simple.stl"/>
      </geometry>
      <material name="light_grey">
        <color rgba="0.75 0.75 0.75 1.0"/>
      </material>
    </collision>
  </link>
  <link name="H1_F3_link_2">
    <inertial>
      <origin rpy="0 0 0" xyz="0.000506812071918918 -0.00091292934992606 0.0156620851768385"/>
      <mass value="0.0270049614151599"/>
      <inertia ixx="1.06942730265546E-05" ixy="-7.1810089794211E-09" ixz="-3.49957211410822E-07" iyy="1.05772889540593E-05" iyz="-8.38595987731518E-07" izz="3.27173446995846E-06"/>
    </inertial>
    <visual>
      <origin rpy="0 0 0" xyz="0 0 0"/>
      <geometry>
        <mesh filename="package://fh_desc/meshes/v2/finger_dist_link_simple.stl"/>
      </geometry>
      <material name="light_grey">
        <color rgba="0.75 0.75 0.75 1.0"/>
      </material>
    </visual>
    <collision>
      <origin rpy="0 0 0" xyz="0 0 0"/>
      <geometry>
        <mesh filename="package://fh_desc/meshes/v2/finger_dist_link_simple.stl"/>
      </geometry>
      <material name="light_grey">
        <color rgba="0.75 0.75 0.75 1.0"/>
      </material>
    </collision>
  </link>
  <joint name="H1_F3Palm" type="fixed">
    <origin rpy="0 0 0" xyz="0 0 0"/>
    <parent link="H1_insert_F3"/>
    <child link="H1_F3_palm_link"/>
  </joint>
  <joint name="H1_F3J1" type="revolute">
    <origin rpy="-8.8818E-16 -1.0061E-16 0.022402" xyz="0 0 0.00016528"/>
    <axis xyz="0 0 1"/>
    <parent link="H1_F3_palm_link"/>
    <child link="H1_F3_base_link"/>
    <limit effort="30" lower="-0.785398163397" upper="0.785398163397" velocity="1.0"/>
    <dynamics damping="0.0" friction="0.0"/>
  </joint>
  <joint name="H1_F3J2" type="revolute">
    <origin rpy="0.070695 6.9389E-16 2.0947E-16" xyz="0 0.035 0.11683"/>
    <axis xyz="1 0 0"/>
    <parent link="H1_F3_base_link"/>
    <child link="H1_F3_link_1"/>
    <limit effort="30" lower="-1.3962634016" upper="1.0471975512" velocity="1.0"/>
    <dynamics damping="0.0" friction="0.0"/>
  </joint>
  <joint name="H1_F3J3" type="revolute">
    <origin rpy="-0.0068649 1.7347E-18 1.6176E-16" xyz="0 0 0.06"/>
    <axis xyz="1 0 0"/>
    <parent link="H1_F3_link_1"/>
    <child link="H1_F3_link_2"/>
    <limit effort="30" lower="-1.0471975512" upper="1.57079632679" velocity="1.0"/>
    <dynamics damping="0.0" friction="0.0"/>
  </joint>
  <transmission name="H1_F3J1_transmission">
    <type>transmission_interface/SimpleTransmission</type>
    <actuator name="H1_F3J1">
      <mechanicalReduction>1</mechanicalReduction>
    </actuator>
    <joint name="H1_F3J1">
      <hardwareInterface>EffortJointInterface</hardwareInterface>
    </joint>
  </transmission>
  <transmission name="H1_F3J2_transmission">
    <type>transmission_interface/SimpleTransmission</type>
    <actuator name="H1_F3J2">
      <mechanicalReduction>1</mechanicalReduction>
    </actuator>
    <joint name="H1_F3J2">
      <hardwareInterface>EffortJointInterface</hardwareInterface>
    </joint>
  </transmission>
  <transmission name="H1_F3J3_transmission">
    <type>transmission_interface/SimpleTransmission</type>
    <actuator name="H1_F3J3">
      <mechanicalReduction>1</mechanicalReduction>
    </actuator>
    <joint name="H1_F3J3">
      <hardwareInterface>EffortJointInterface</hardwareInterface>
    </joint>
  </transmission>
  <!-- finger tip -->
  <link name="H1_F3_tip">
    <inertial>
      <origin rpy="0 0 0" xyz="-0.000925580990320645 -0.00495543398528436 0.0355865585792753"/>
      <mass value="0.00906322686585137"/>
      <inertia ixx="1.10049088227995E-06" ixy="-3.7290982171096E-09" ixz="-9.54389365908683E-09" iyy="1.36130530510584E-06" iyz="6.66133713720777E-08" izz="6.42259773618367E-07"/>
    </inertial>
    <visual>
      <origin rpy="0 0 0" xyz="0 0 0"/>
      <geometry>
        <mesh filename="package://fh_desc/meshes/omd-d18-tip.stl"/>
      </geometry>
      <material name="light_grey">
        <color rgba="0.75 0.75 0.75 1.0"/>
      </material>
    </visual>
    <collision>
      <origin rpy="0 0 0" xyz="0 0 0"/>
      <geometry>
        <mesh filename="package://fh_desc/meshes/omd-d18-tip.stl"/>
      </geometry>
      <material name="light_grey">
        <color rgba="0.75 0.75 0.75 1.0"/>
      </material>
    </collision>
  </link>
  <link name="H1_F3_optoforce"/>
  <joint name="H1_F3_tip_to_optoforce" type="fixed">
    <parent link="H1_F3_tip"/>
    <child link="H1_F3_optoforce"/>
    <origin rpy="-0.35 0 0" xyz="0 -0.006 0.046"/>
  </joint>
  <joint name="H1_F3_tip" type="fixed">
    <parent link="H1_F3_link_2"/>
    <child link="H1_F3_tip"/>
  </joint>
  
  
  <joint name="arm_to_hand" type="fixed">
    <parent link="ee_link"/>
    <child link="H1_base_attach"/>
    <origin rpy="1.57079632679 3.14159265359 1.57079632679" xyz="0.012 0.0 0.0"/>
  </joint>
  
  
  <gazebo reference="H1_F1J1">
    <implicitSpringDamper>1</implicitSpringDamper>
  </gazebo>
  <gazebo reference="H1_F1J2">
    <implicitSpringDamper>1</implicitSpringDamper>
  </gazebo>
  <gazebo reference="H1_F1J3">
    <implicitSpringDamper>1</implicitSpringDamper>
  </gazebo>
  <gazebo reference="H1_F2J1">
    <implicitSpringDamper>1</implicitSpringDamper>
  </gazebo>
  <gazebo reference="H1_F2J2">
    <implicitSpringDamper>1</implicitSpringDamper>
  </gazebo>
  <gazebo reference="H1_F2J3">
    <implicitSpringDamper>1</implicitSpringDamper>
  </gazebo>
  <gazebo reference="H1_F3J1">
    <implicitSpringDamper>1</implicitSpringDamper>
  </gazebo>
  <gazebo reference="H1_F3J2">
    <implicitSpringDamper>1</implicitSpringDamper>
  </gazebo>
  <gazebo reference="H1_F3J3">
    <implicitSpringDamper>1</implicitSpringDamper>
  </gazebo>
  
  <gazebo reference="H1_F1_link_1">  
    <kp>1000000.0</kp>
    <kd>100.0</kd>
    <mu1>1.5</mu1>
    <mu2>1.5</mu2>
    <fdir1>1 0 0</fdir1>
    <maxVel>1.0</maxVel>
    <minDepth>0.002</minDepth>
    
    <material>Gazebo/DarkGrey</material>
  </gazebo>
  <gazebo reference="H1_F1_link_2">
    <kp>1000000.0</kp>
    <kd>100.0</kd>
    <mu1>1.5</mu1>
    <mu2>1.5</mu2>
    <fdir1>1 0 0</fdir1>
    <maxVel>1.0</maxVel>
    <minDepth>0.002</minDepth>
    
    <material>Gazebo/DarkGrey</material>
  </gazebo><gazebo reference="H1_F1_tip">
    <kp>1000000.0</kp>
    <kd>100.0</kd>
    <mu1>1.5</mu1>
    <mu2>1.5</mu2>
    <fdir1>1 0 0</fdir1>
    <maxVel>1.0</maxVel>
    <minDepth>0.002</minDepth>
    
    <material>Gazebo/DarkGrey</material>
  </gazebo>
  
  <gazebo reference="H1_F2_link_1">
    <kp>1000000.0</kp>
    <kd>100.0</kd>
    <mu1>1.5</mu1>
    <mu2>1.5</mu2>
    <fdir1>1 0 0</fdir1>
    <maxVel>1.0</maxVel>
    <minDepth>0.002</minDepth>
    
    <material>Gazebo/DarkGrey</material>
  </gazebo>
  <gazebo reference="H1_F2_link_2">
    <kp>1000000.0</kp>
    <kd>100.0</kd>
    <mu1>1.5</mu1>
    <mu2>1.5</mu2>
    <fdir1>1 0 0</fdir1>
    <maxVel>1.0</maxVel>
    <minDepth>0.002</minDepth>
    
    <material>Gazebo/DarkGrey</material>
  </gazebo><gazebo reference="H1_F2_tip">
    <kp>1000000.0</kp>
    <kd>100.0</kd>
    <mu1>1.5</mu1>
    <mu2>1.5</mu2>
    <fdir1>1 0 0</fdir1>
    <maxVel>1.0</maxVel>
    <minDepth>0.002</minDepth>
    
    <material>Gazebo/DarkGrey</material>
  </gazebo>
  
  <gazebo reference="H1_F3_link_1">
    <kp>1000000.0</kp>
    <kd>100.0</kd>
    <mu1>1.5</mu1>
    <mu2>1.5</mu2>
    <fdir1>1 0 0</fdir1>
    <maxVel>1.0</maxVel>
    <minDepth>0.002</minDepth>
    
    <material>Gazebo/DarkGrey</material>
  </gazebo>
  <gazebo reference="H1_F3_link_2">
    <kp>1000000.0</kp>
    <kd>100.0</kd>
    <mu1>1.5</mu1>
    <mu2>1.5</mu2>
    <fdir1>1 0 0</fdir1>
    <maxVel>1.0</maxVel>
    <minDepth>0.002</minDepth>
    
    <material>Gazebo/DarkGrey</material>
  </gazebo><gazebo reference="H1_F3_tip">
    <kp>1000000.0</kp>
    <kd>100.0</kd>
    <mu1>1.5</mu1>
    <mu2>1.5</mu2>
    <fdir1>1 0 0</fdir1>
    <maxVel>1.0</maxVel>
    <minDepth>0.002</minDepth>
    
    <material>Gazebo/DarkGrey</material>
  </gazebo>
  
  <gazebo reference="H1_F1_base_link">
    <kp>1000000.0</kp>
    <kd>100.0</kd>
    <mu1>1.5</mu1>
    <mu2>1.5</mu2>
    <fdir1>1 0 0</fdir1>
    <maxVel>1.0</maxVel>
    <minDepth>0.002</minDepth>
    
    <material>Gazebo/DarkGrey</material>
  </gazebo>
  <gazebo reference="H1_F2_base_link">
    <kp>1000000.0</kp>
    <kd>100.0</kd>
    <mu1>1.5</mu1>
    <mu2>1.5</mu2>
    <fdir1>1 0 0</fdir1>
    <maxVel>1.0</maxVel>
    <minDepth>0.002</minDepth>
    
    <material>Gazebo/DarkGrey</material>
  </gazebo>
  <gazebo reference="H1_F3_base_link">
    <kp>1000000.0</kp>
    <kd>100.0</kd>
    <mu1>1.5</mu1>
    <mu2>1.5</mu2>
    <fdir1>1 0 0</fdir1>
    <maxVel>1.0</maxVel>
    <minDepth>0.002</minDepth>
    
    <material>Gazebo/DarkGrey</material>
  </gazebo>
  
  <gazebo reference="H1_F1_palm_link">
    <kp>1000000.0</kp>
    <kd>100.0</kd>
    <mu1>1.5</mu1>
    <mu2>1.5</mu2>
    <fdir1>1 0 0</fdir1>
    <maxVel>1.0</maxVel>
    <minDepth>0.002</minDepth>
    
    <material>Gazebo/DarkGrey</material>
  </gazebo>
  <gazebo reference="H1_F2_palm_link">
    <kp>1000000.0</kp>
    <kd>100.0</kd>
    <mu1>1.5</mu1>
    <mu2>1.5</mu2>
    <fdir1>1 0 0</fdir1>
    <maxVel>1.0</maxVel>
    <minDepth>0.002</minDepth>
    
    <material>Gazebo/DarkGrey</material>
  </gazebo>
  <gazebo reference="H1_F3_palm_link">
    <kp>1000000.0</kp>
    <kd>100.0</kd>
    <mu1>1.5</mu1>
    <mu2>1.5</mu2>
    <fdir1>1 0 0</fdir1>
    <maxVel>1.0</maxVel>
    <minDepth>0.002</minDepth>
    
    <material>Gazebo/DarkGrey</material>
  </gazebo>
  
  <gazebo reference="H1_base_link">
    <kp>1000000.0</kp>
    <kd>100.0</kd>
    <mu1>1.5</mu1>
    <mu2>1.5</mu2>
    <fdir1>1 0 0</fdir1>
    <maxVel>1.0</maxVel>
    <minDepth>0.002</minDepth>
    
    <material>Gazebo/DarkGrey</material>
  </gazebo>
  
</robot>
